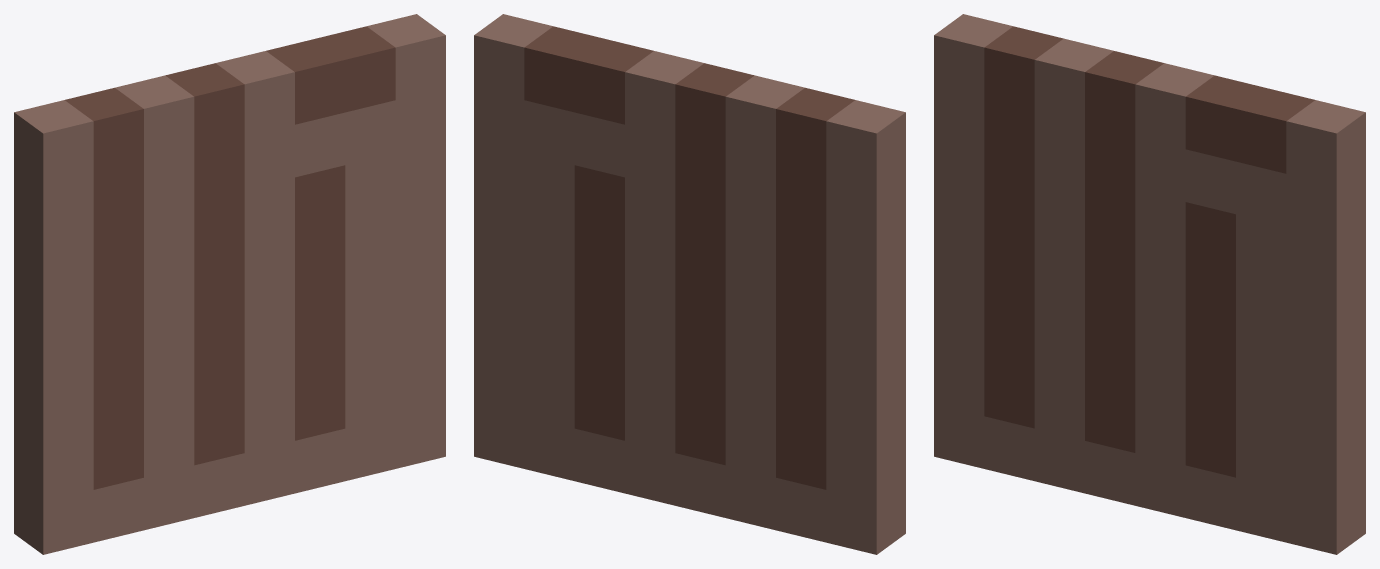
The model's file is Pear Door.glb.
The picture shows the model from 3 angles, left to right: view 1: azimuth 30°, elevation 25°; view 2: azimuth 150°, elevation 25°; view 3: azimuth 330°, elevation 25°; orthographic projection.
Visible parts, largest first — view 1: generated(Clone); view 2: generated(Clone); view 3: generated(Clone).
Part boxes in pixels (bbox=[...]): generated(Clone): bbox=[14, 14, 445, 554]; generated(Clone): bbox=[474, 14, 905, 554]; generated(Clone): bbox=[934, 14, 1365, 554].
Bounding box in the file's own units: 8 × 8 × 1.
1 material, 1 textured.
